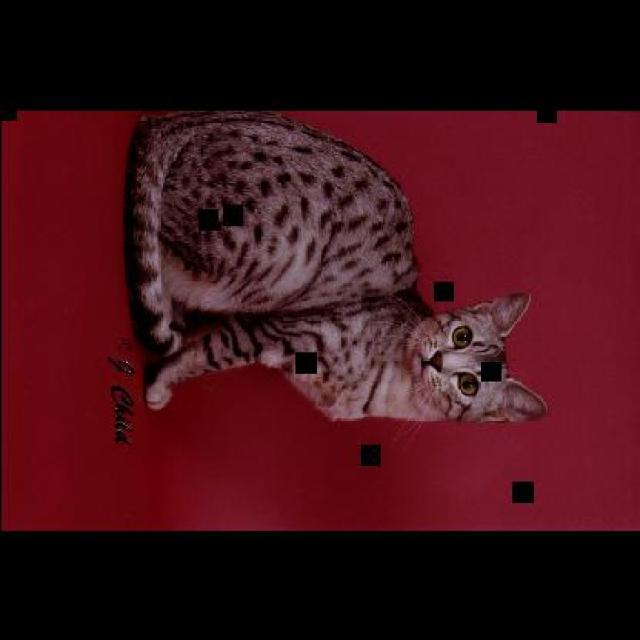unauthorized: (123, 109, 548, 426), (142, 289, 548, 425)
